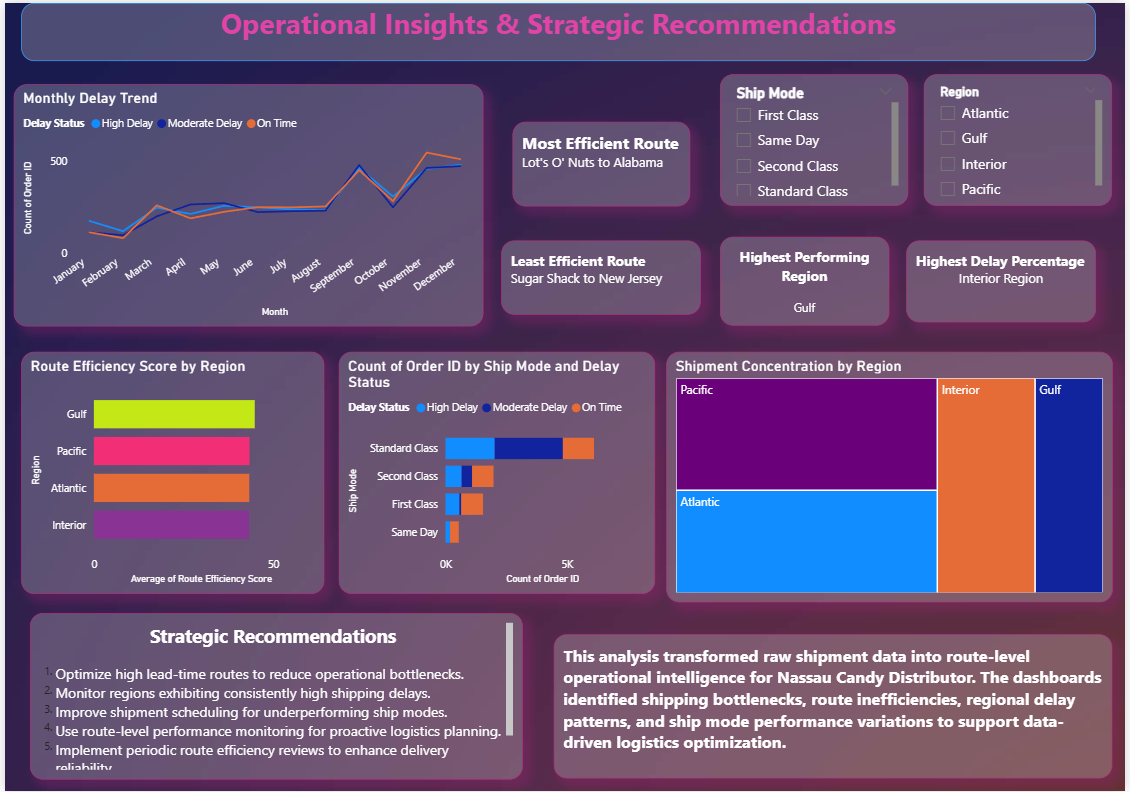

This screenshot's page, from the dashboard's own definition file:
{"tool":"powerbi","page":{"name":"Dashboard 4","canvas":[1280,900],"ordinal":4},"visuals":[{"type":"textbox","box":[18.3,0,1228.3,66.7],"z":0},{"type":"slicer","fields":{"Values":["nassau_candy_clean_dataset.Ship Mode"]},"box":[816.7,81.7,215,150],"z":1000},{"type":"slicer","fields":{"Values":["nassau_candy_clean_dataset.Region"]},"box":[1050,81.7,215,150],"z":2000},{"type":"clusteredBarChart","title":"Route Efficiency Score by Region","fields":{"Y":["Avg(nassau_candy_clean_dataset.Route Efficiency Score)"],"Category":["nassau_candy_clean_dataset.Region"]},"box":[18.3,398.3,346.7,276.7],"z":3000},{"type":"lineChart","title":"Monthly Delay Trend","fields":{"Y":["CountNonNull(nassau_candy_clean_dataset.Order ID)"],"Category":["nassau_candy_clean_dataset.Order Date.Variation.Date Hierarchy.Month"],"Series":["nassau_candy_clean_dataset.Delay Status"]},"box":[10,93.3,536.7,276.7],"z":4000},{"type":"treemap","title":"Shipment Concentration by Region","fields":{"Values":["CountNonNull(nassau_candy_clean_dataset.Order ID)"],"Group":["nassau_candy_clean_dataset.Region"]},"box":[755,398.3,510,286.7],"z":5000},{"type":"barChart","fields":{"Y":["CountNonNull(nassau_candy_clean_dataset.Order ID)"],"Category":["nassau_candy_clean_dataset.Ship Mode"],"Series":["nassau_candy_clean_dataset.Delay Status"]},"box":[381.7,398.3,361.7,276.7],"z":6000},{"type":"textbox","box":[580,135,203.3,96.7],"z":7000},{"type":"textbox","box":[566.7,271.7,228.3,85],"z":8000},{"type":"textbox","box":[28.3,696.7,563.3,190],"z":9000},{"type":"textbox","box":[626.7,721.7,638.3,165],"z":10000},{"type":"textbox","box":[816.7,266.7,193.3,101.7],"z":11000},{"type":"textbox","box":[1030,271.7,216.7,93.3],"z":12000}]}

Visuals, with their boxes in screenshot pixels (x1, y1, x2, y2), scaled from the page's 1280x900 canvas onto the 1130x792 screenshot:
textbox: left=16, top=0, right=1101, bottom=59
slicer - nassau_candy_clean_dataset.Ship Mode: left=721, top=72, right=911, bottom=204
slicer - nassau_candy_clean_dataset.Region: left=927, top=72, right=1117, bottom=204
"Route Efficiency Score by Region" clusteredBarChart: left=16, top=351, right=322, bottom=594
"Monthly Delay Trend" lineChart: left=9, top=82, right=483, bottom=326
"Shipment Concentration by Region" treemap: left=667, top=351, right=1117, bottom=603
barChart - CountNonNull(nassau_candy_clean_dataset.Order ID) x nassau_candy_clean_dataset.Ship Mode: left=337, top=351, right=656, bottom=594
textbox: left=512, top=119, right=692, bottom=204
textbox: left=500, top=239, right=702, bottom=314
textbox: left=25, top=613, right=522, bottom=780
textbox: left=553, top=635, right=1117, bottom=780
textbox: left=721, top=235, right=892, bottom=324
textbox: left=909, top=239, right=1101, bottom=321
